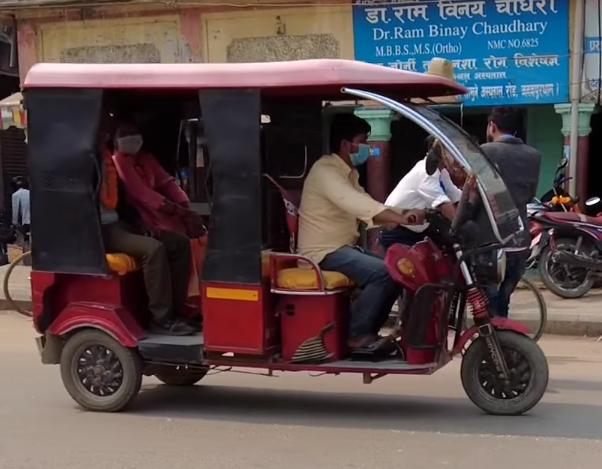e-rickshaw: (25, 57, 559, 417)
